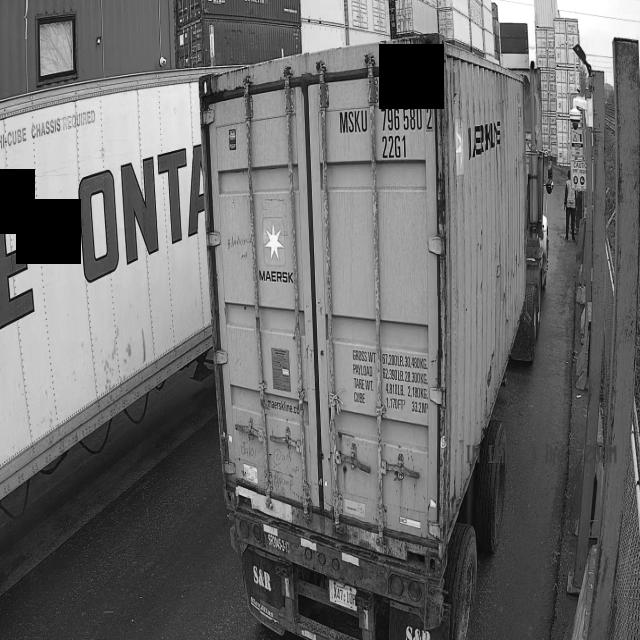container_company_logo: (258, 211, 295, 287)
container_number: (337, 102, 442, 163)
driver: (564, 173, 576, 240)
license_plate: (328, 576, 362, 609)
other_container_info: (347, 345, 432, 425)
truck_with_container: (200, 34, 553, 640), (0, 71, 210, 498)
